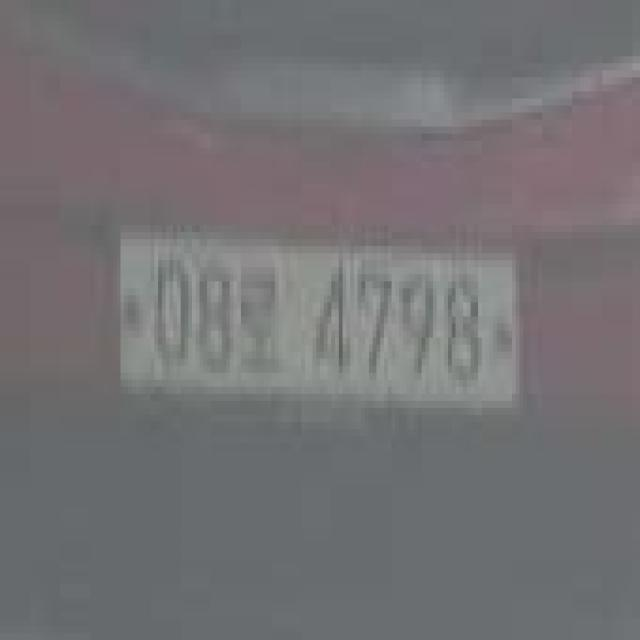illegal_plate: (122, 226, 530, 428)
